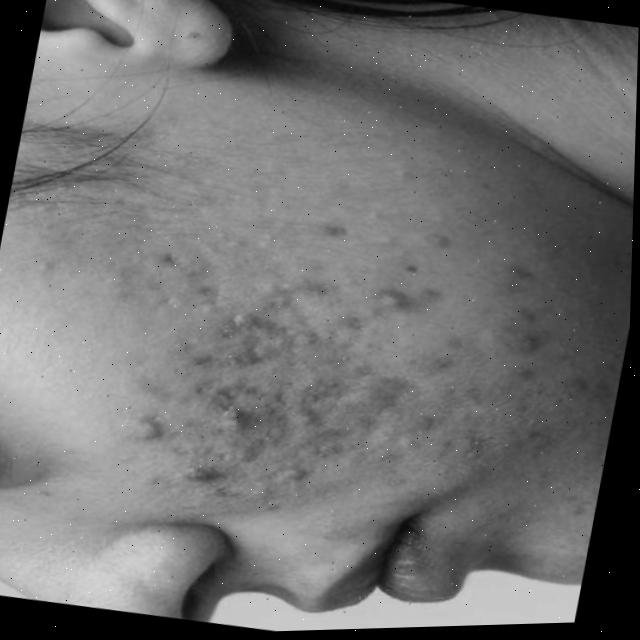Acne: (98, 176, 520, 529)
